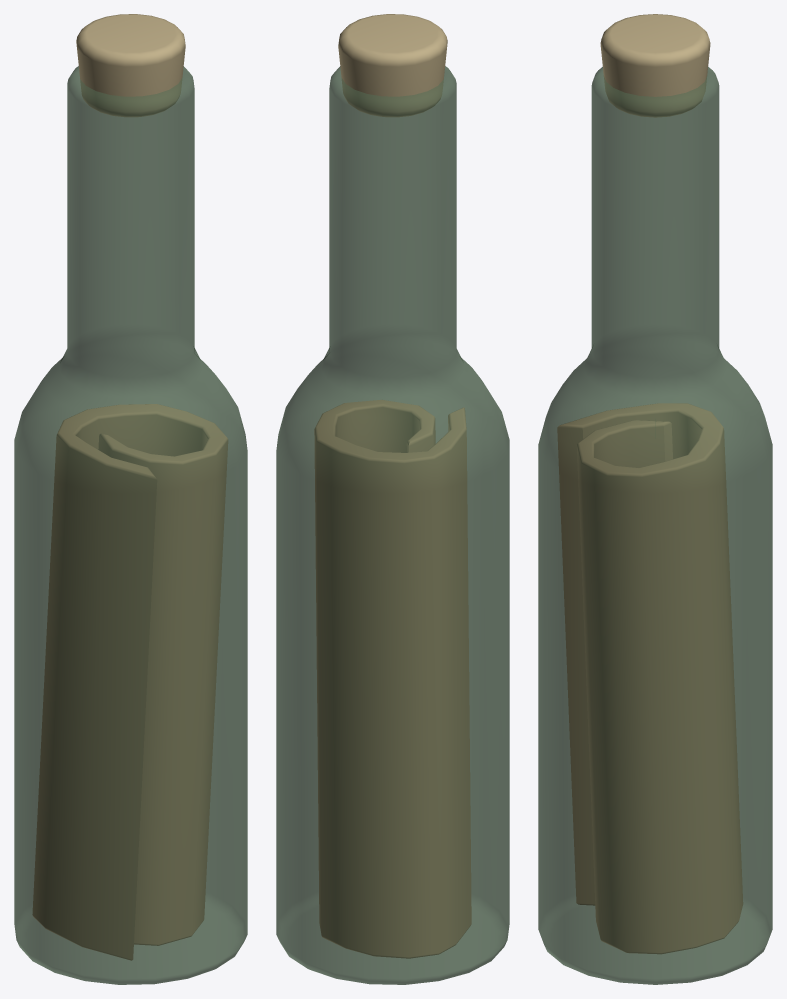
File: MessageBottle.fbx
3 views of the same model, side by side, from view 1: azimuth 30°, elevation 25°; view 2: azimuth 150°, elevation 25°; view 3: azimuth 270°, elevation 25° (orthographic).
Visible parts, largest first — view 1: pCylinder3, pCube1; view 2: pCylinder3, pCube1; view 3: pCylinder3, pCube1.
Part boxes in pixels (<box>): pCylinder3: <box>14,14,247,984</box>; pCube1: <box>32,404,227,960</box>; pCylinder3: <box>276,14,509,984</box>; pCube1: <box>314,400,471,958</box>; pCylinder3: <box>538,14,772,984</box>; pCube1: <box>557,403,742,953</box>.
Bounding box in the file's own units: 3.03 × 12.87 × 3.03.
